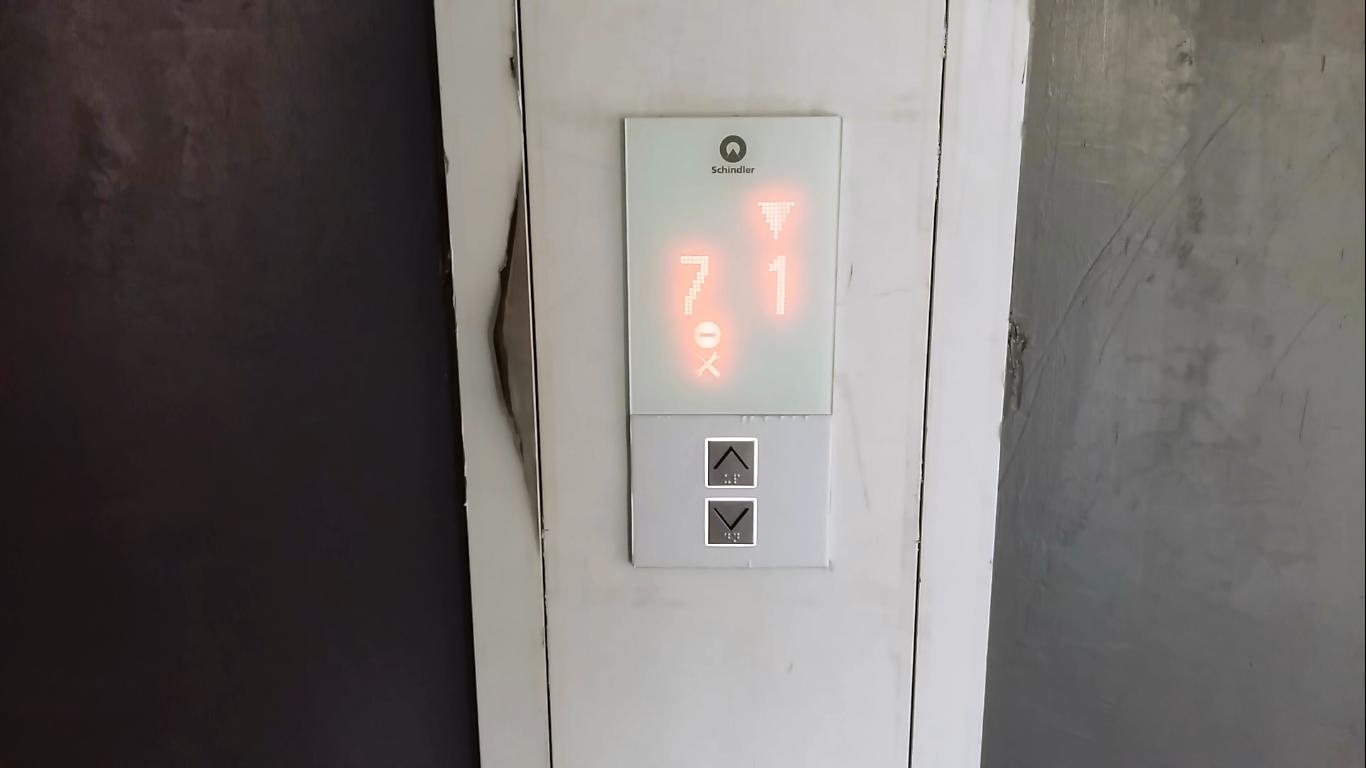down: (702, 494, 761, 550)
led: (618, 109, 846, 420)
up: (701, 433, 761, 493)
